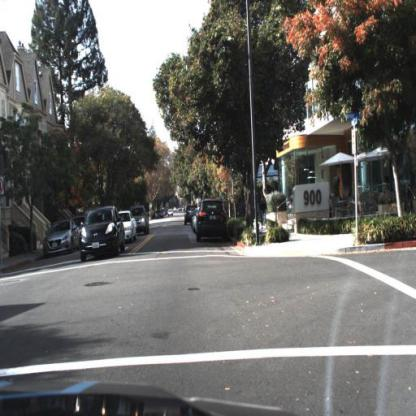car: (77, 206, 126, 259), (196, 197, 230, 246), (42, 219, 80, 254), (132, 204, 153, 237), (122, 209, 138, 246), (135, 205, 151, 234), (182, 201, 194, 229), (184, 203, 196, 229)
pedestrian: (258, 189, 268, 227)
